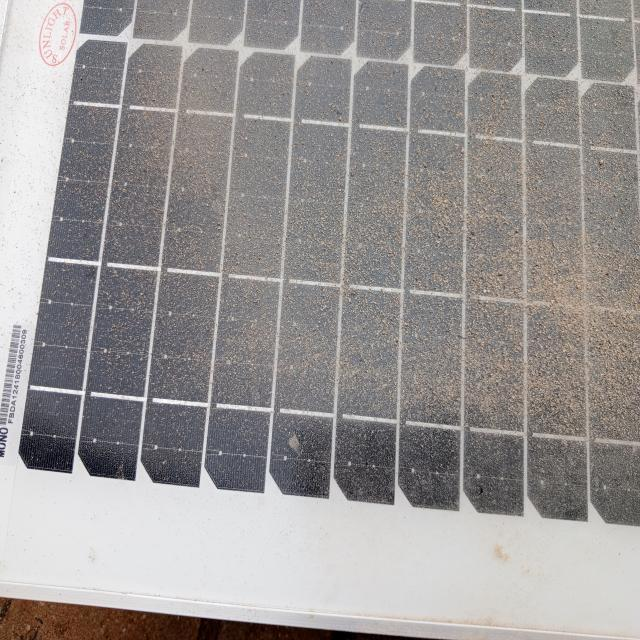Surface Contaminant: (25, 11, 619, 570)
